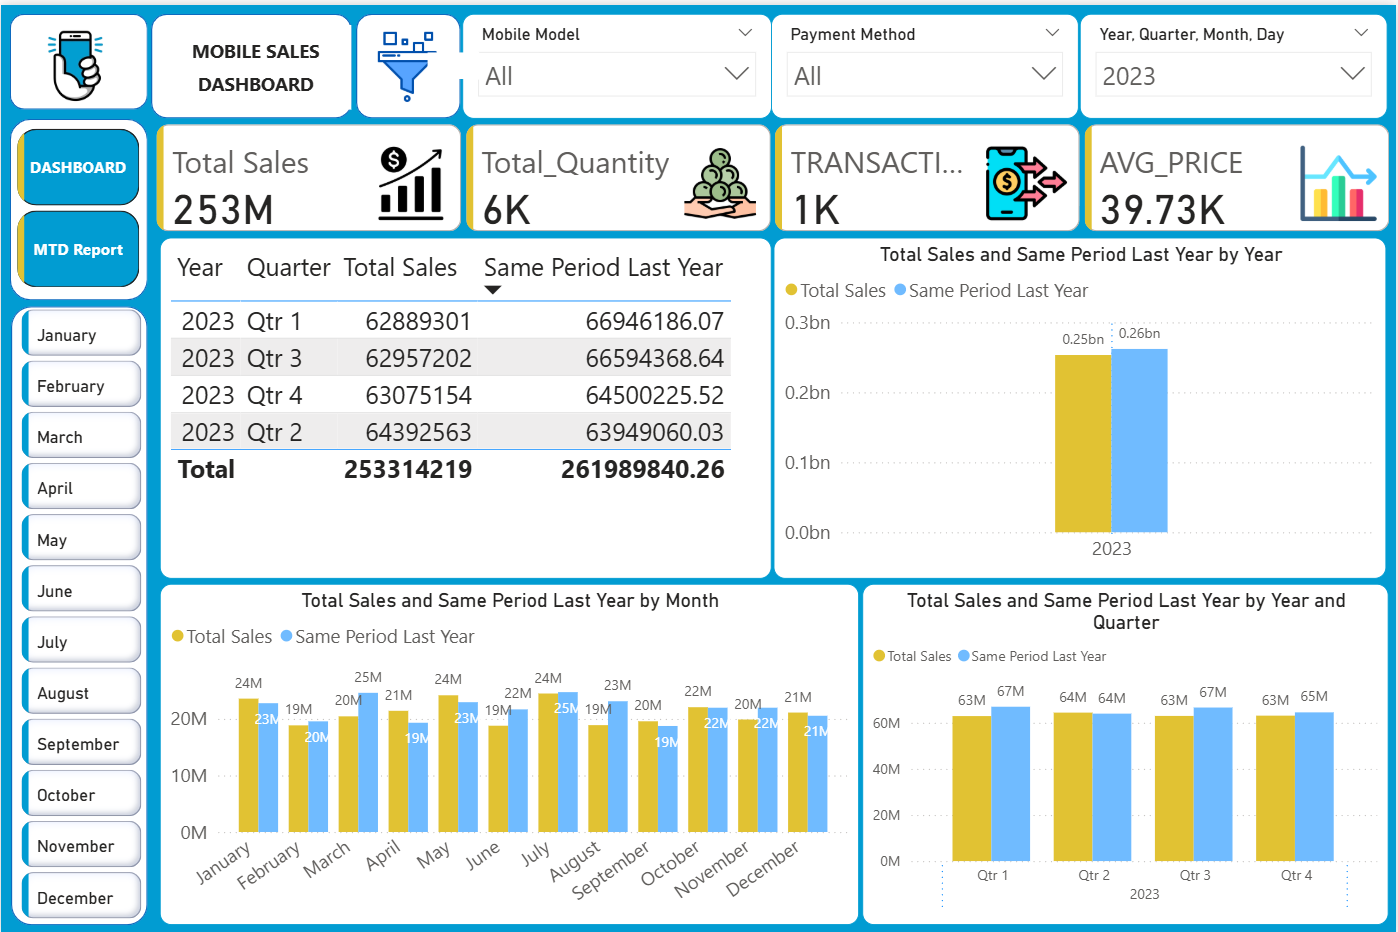

The page's visual inventory and layout, read from the dashboard file:
{"tool":"powerbi","page":{"name":"Same Period Last Year","canvas":[1200,800],"ordinal":2},"visuals":[{"type":"shape","box":[7.5,7.5,118.8,82.5],"z":0},{"type":"image","box":[13.8,7.5,100,90],"z":1000},{"type":"shape","box":[7.5,97.5,118.8,156.2],"z":2000},{"type":"cardVisual","fields":{"Data":["_sales_data.TOTAL_SALES","_sales_data.Total_Quantity","_sales_data.TRANSACTIONS","_sales_data.AVG_PRICE"]},"box":[128.8,97.5,1071.2,102.5],"z":3000},{"type":"slicer","fields":{"Values":["_sales_data.Mobile Model"]},"box":[396.2,7.5,266.2,90],"z":4000},{"type":"slicer","fields":{"Values":["_sales_data.Payment Method"]},"box":[662.5,7.5,265,90],"z":5000},{"type":"slicer","fields":{"Values":["Custom_Calender.Date.Variation.Date Hierarchy.Year","Custom_Calender.Date.Variation.Date Hierarchy.Quarter","Custom_Calender.Date.Variation.Date Hierarchy.Month","Custom_Calender.Date.Variation.Date Hierarchy.Day"]},"box":[927.5,7.5,265,90],"z":6000},{"type":"shape","box":[305,7.5,90,90],"z":7000},{"type":"image","box":[308.8,17.5,81.2,72.5],"z":8000},{"type":"shape","box":[366.2,28.8,56.2,46.2],"z":9000},{"type":"shape","box":[128.8,7.5,172.5,90],"z":10000},{"type":"textbox","box":[136.2,17.5,165,72.5],"z":11000},{"type":"shape","box":[8.8,258.8,117.5,532.5],"z":13000},{"type":"advancedSlicerVisual","fields":{"Values":["Custom_Calender.Date.Variation.Date Hierarchy.Month"]},"box":[12.5,257.5,113.8,542.5],"z":14000},{"type":"clusteredColumnChart","fields":{"Category":["Custom_Calender.Date.Variation.Date Hierarchy.Year","Custom_Calender.Date.Variation.Date Hierarchy.Quarter"],"Y":["_sales_data.Total Sales","_sales_data.Same Period Last Year"]},"box":[665,200,527.5,293.8],"z":14002},{"type":"tableEx","fields":{"Values":["Custom_Calender.Date.Variation.Date Hierarchy.Year","Custom_Calender.Date.Variation.Date Hierarchy.Quarter","_sales_data.Total Sales","_sales_data.Same Period Last Year"]},"box":[136.2,200,526.2,293.8],"z":14003},{"type":"clusteredColumnChart","fields":{"Category":["Custom_Calender.Date.Variation.Date Hierarchy.Year","Custom_Calender.Date.Variation.Date Hierarchy.Quarter"],"Y":["_sales_data.Total Sales","_sales_data.Same Period Last Year"]},"box":[741.2,497.5,452.5,293.8],"z":14004},{"type":"clusteredColumnChart","fields":{"Y":["_sales_data.Total Sales","_sales_data.Same Period Last Year"],"Category":["Custom_Calender.Date.Variation.Date Hierarchy.Year","Custom_Calender.Date.Variation.Date Hierarchy.Quarter","Custom_Calender.Date.Variation.Date Hierarchy.Month","Custom_Calender.Date.Variation.Date Hierarchy.Day"]},"box":[136.2,497.5,601.2,293.8],"z":14005},{"type":"pageNavigator","box":[13.8,106.2,105,137.5],"z":14006}]}

Visuals, with their boxes in screenshot pixels (x1, y1, x2, y2), scaled from the page's 1200x800 canvas onto the 1398x932 screenshot:
shape: (left=9, top=9, right=147, bottom=105)
image: (left=16, top=9, right=133, bottom=114)
shape: (left=9, top=114, right=147, bottom=296)
cardVisual - _sales_data.TOTAL_SALES x _sales_data.Total_Quantity: (left=150, top=114, right=1397, bottom=233)
slicer - _sales_data.Mobile Model: (left=462, top=9, right=772, bottom=114)
slicer - _sales_data.Payment Method: (left=772, top=9, right=1081, bottom=114)
slicer - Custom_Calender.Date.Variation.Date Hierarchy.Year x Custom_Calender.Date.Variation.Date Hierarchy.Quarter: (left=1081, top=9, right=1389, bottom=114)
shape: (left=355, top=9, right=460, bottom=114)
image: (left=360, top=20, right=454, bottom=105)
shape: (left=427, top=34, right=492, bottom=87)
shape: (left=150, top=9, right=351, bottom=114)
textbox: (left=159, top=20, right=351, bottom=105)
shape: (left=10, top=302, right=147, bottom=922)
advancedSlicerVisual - Custom_Calender.Date.Variation.Date Hierarchy.Month: (left=15, top=300, right=147, bottom=931)
clusteredColumnChart - Custom_Calender.Date.Variation.Date Hierarchy.Year x Custom_Calender.Date.Variation.Date Hierarchy.Quarter: (left=775, top=233, right=1389, bottom=575)
tableEx - Custom_Calender.Date.Variation.Date Hierarchy.Year x Custom_Calender.Date.Variation.Date Hierarchy.Quarter: (left=159, top=233, right=772, bottom=575)
clusteredColumnChart - Custom_Calender.Date.Variation.Date Hierarchy.Year x Custom_Calender.Date.Variation.Date Hierarchy.Quarter: (left=863, top=580, right=1391, bottom=922)
clusteredColumnChart - _sales_data.Total Sales x _sales_data.Same Period Last Year: (left=159, top=580, right=859, bottom=922)
pageNavigator: (left=16, top=124, right=138, bottom=284)
